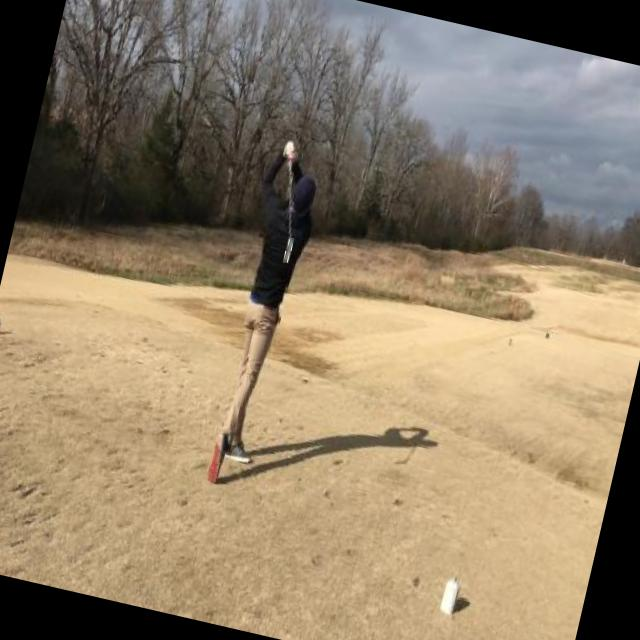club head: (282, 236, 294, 264)
